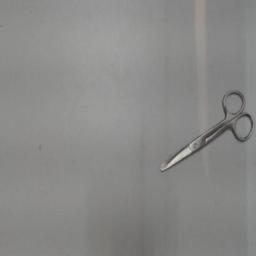Dressing Scissors: (151, 82, 255, 180)
